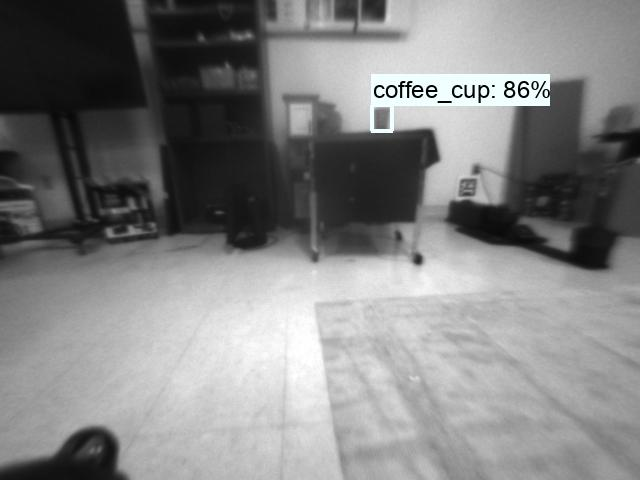coffee_cup: (371, 105, 390, 132)
